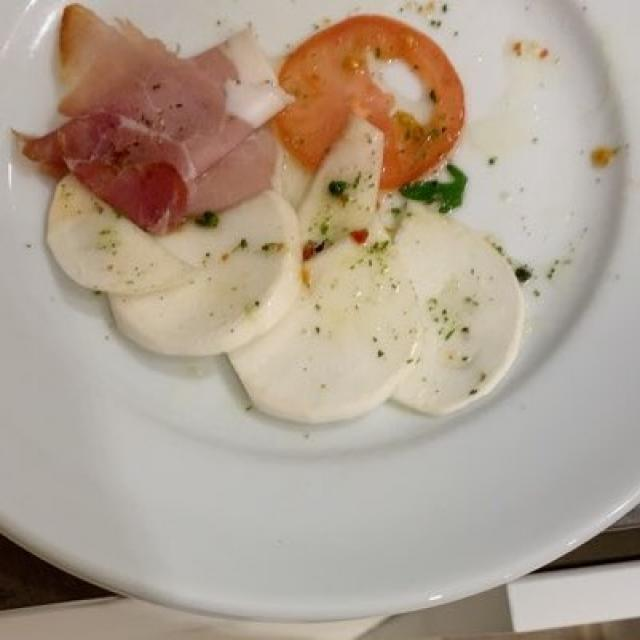ham: (38, 23, 282, 216)
kolhrabi: (60, 182, 522, 429)
tomato: (284, 23, 470, 193)
